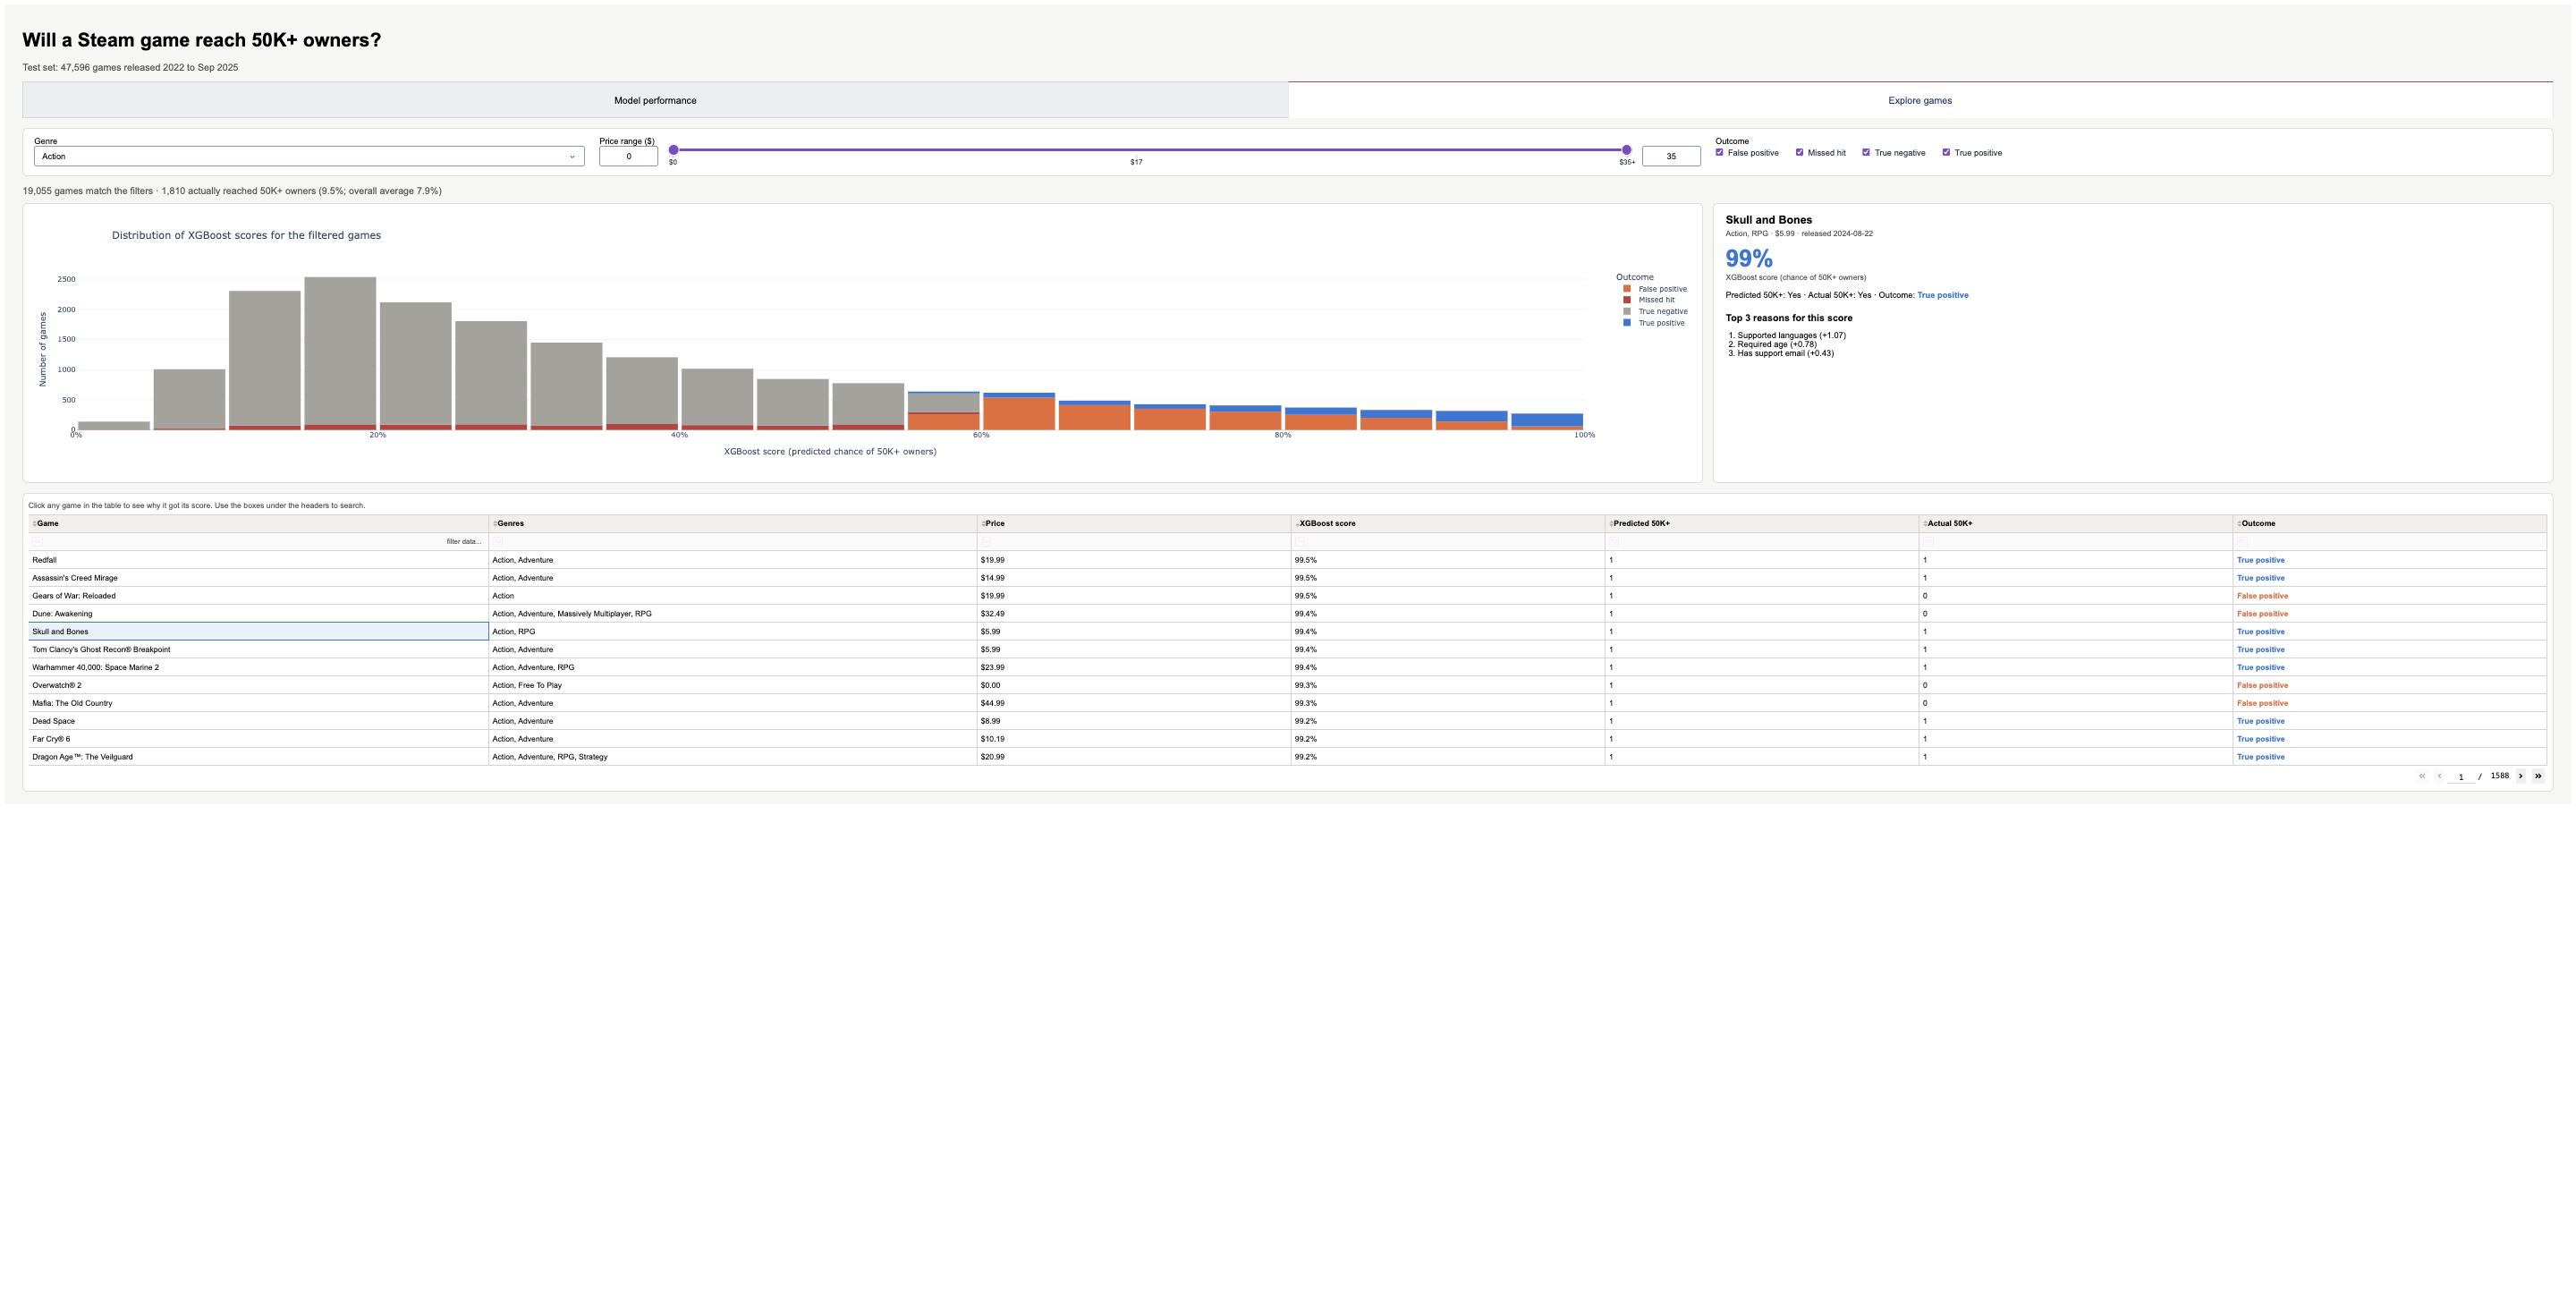

The page's visual inventory and layout, read from the dashboard file:
{"tool":"tableau","page":{"name":"Steam Performance Dashboard","canvas":[1600,900],"ordinal":0},"visuals":[{"type":"image","param":"Image/steam_dashboard_bg.png","box":[0,0,1600,900]},{"type":"legend","title":"D-Q3","param":"[federated.12hhkun1hj3d031dkvtxg0rlg7yn].[none:is_free:nk]","box":[1432,8,160,66]},{"type":"text","box":[12,12,735,66]},{"type":"worksheet","title":"# of Games","mark":"Automatic","box":[747,12,200,66]},{"type":"worksheet","title":"# of Genres","mark":"Automatic","box":[947,12,200,66]},{"type":"worksheet","title":"# of Features","mark":"Automatic","box":[1147,12,220,66]},{"type":"worksheet","title":"Overall Hit Rate %","mark":"Automatic","box":[1367,12,209,66]},{"type":"legend","title":"D-Q4","param":"[federated.12hhkun1hj3d031dkvtxg0rlg7yn].[none:Calculation_2168839003660290:nk]","box":[1432,74,160,66]},{"type":"parameter","param":"[Parameters].[Parameter 2168839003144193]","box":[12,78,525.3,52]},{"type":"parameter","param":"[Parameters].[Parameter 2804082612989953]","box":[537.3,78,525.3,52]},{"type":"filter","title":"D-Q3","param":"[federated.12hhkun1hj3d031dkvtxg0rlg7yn].[none:price_capped:qk]","box":[1062.7,78,525.3,52]},{"type":"worksheet","title":"D-Q1","mark":"Automatic","rows":["owners_range"],"cols":["steam_clean.csv_FA9DB04033D444859DC21D36041F080C"],"box":[12,130,788,363.9]},{"type":"worksheet","title":"D-Q2","mark":"Automatic","rows":["genre"],"cols":["Success 50K (copy)_2514635042177025"],"box":[800,130,788,363.9]},{"type":"legend","title":"D-Q1","param":"[federated.12hhkun1hj3d031dkvtxg0rlg7yn].[none:Calculation_2514635033063424:nk]","box":[620,373,144,58]},{"type":"worksheet","title":"D-Q3","mark":"Automatic","rows":["Success 50K (copy)_2514635042177025"],"cols":["Calculation_2168838993494016"],"box":[12,494,484,394]},{"type":"worksheet","title":"D-Q4","mark":"Automatic","rows":["Calculation_2168839003660290"],"cols":["Success 50K (copy)_2514635042177025"],"box":[496,494,613,181]},{"type":"worksheet","title":"D-Q6","mark":"Square","rows":["genre"],"cols":["Calculation_2804082613788675"],"box":[1109,494,479,394]},{"type":"legend","title":"D-Q6","param":"[federated.12hhkun1hj3d031dkvtxg0rlg7yn].[avg:Success 50K (copy)_251463504217702","box":[1467,496,110,76]},{"type":"legend","title":"D-Q5","param":"[federated.12hhkun1hj3d031dkvtxg0rlg7yn].[none:Calculation_2168839010418692:nk]","box":[957,654,140,58]},{"type":"worksheet","title":"D-Q5","mark":"Line","rows":["Success 50K (copy)_2514635042177025"],"cols":["Calculation_2168839010095107"],"box":[496,675,613,213]}]}

Visuals, with their boxes on the page's 1600x900 design canvas (x1, y1, x2, y2). These are canvas units, not pixel positions in the 2576x1315 screenshot, which may show the page scaled, cropped or inside an application window:
image: box=[0, 0, 1600, 900]
"D-Q3" legend: box=[1432, 8, 1592, 74]
text: box=[12, 12, 747, 78]
"# of Games" worksheet: box=[747, 12, 947, 78]
"# of Genres" worksheet: box=[947, 12, 1147, 78]
"# of Features" worksheet: box=[1147, 12, 1367, 78]
"Overall Hit Rate %" worksheet: box=[1367, 12, 1576, 78]
"D-Q4" legend: box=[1432, 74, 1592, 140]
parameter: box=[12, 78, 537, 130]
parameter: box=[537, 78, 1063, 130]
"D-Q3" filter: box=[1063, 78, 1588, 130]
"D-Q1" worksheet: box=[12, 130, 800, 494]
"D-Q2" worksheet: box=[800, 130, 1588, 494]
"D-Q1" legend: box=[620, 373, 764, 431]
"D-Q3" worksheet: box=[12, 494, 496, 888]
"D-Q4" worksheet: box=[496, 494, 1109, 675]
"D-Q6" worksheet (Square marks): box=[1109, 494, 1588, 888]
"D-Q6" legend: box=[1467, 496, 1577, 572]
"D-Q5" legend: box=[957, 654, 1097, 712]
"D-Q5" worksheet (Line marks): box=[496, 675, 1109, 888]
